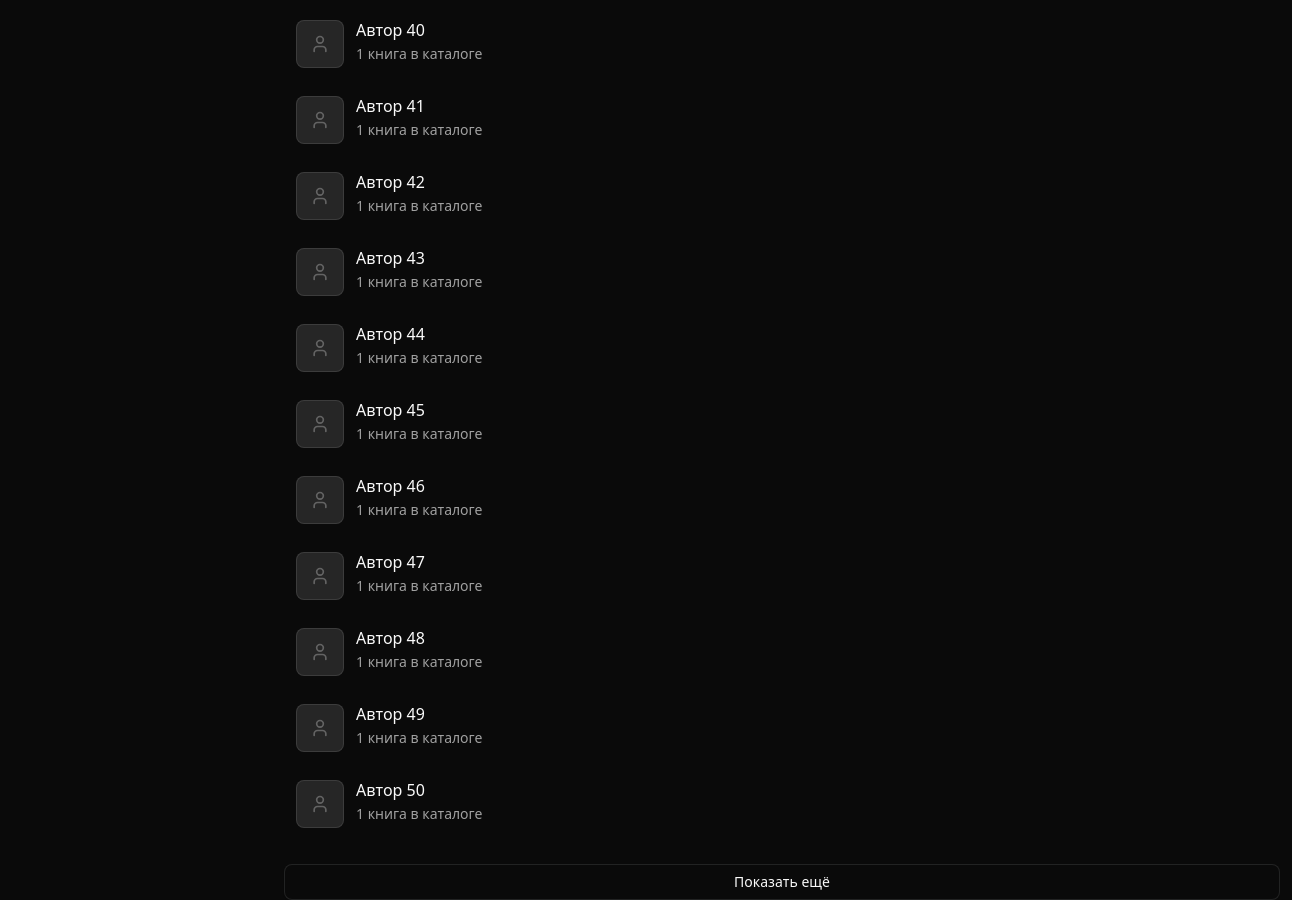
Test: AuthorsPage › «Показать ещё» догружает следующую страницу по offset и держит общее число первой
(page scrolled)
Check: the heading "Автор 50" is shown, box [356,780,425,800]
Click the button "Показать ещё": (782,882) [284,864,1280,899]
(page scrolled)
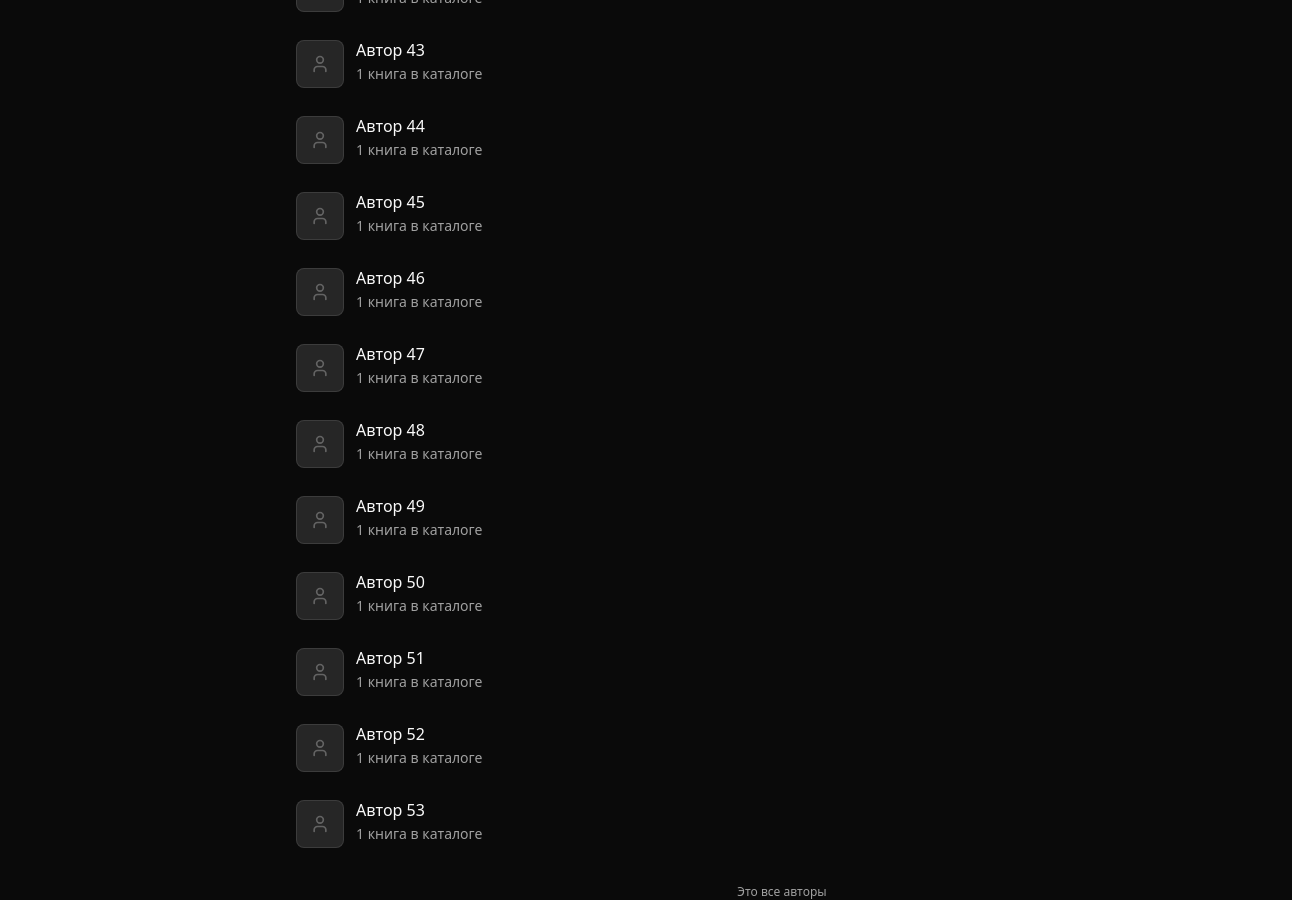
Check: the heading "Автор 53" is shown, box [356,800,425,820]
Check: the text "Это все авторы" is shown, box [737,883,827,899]
